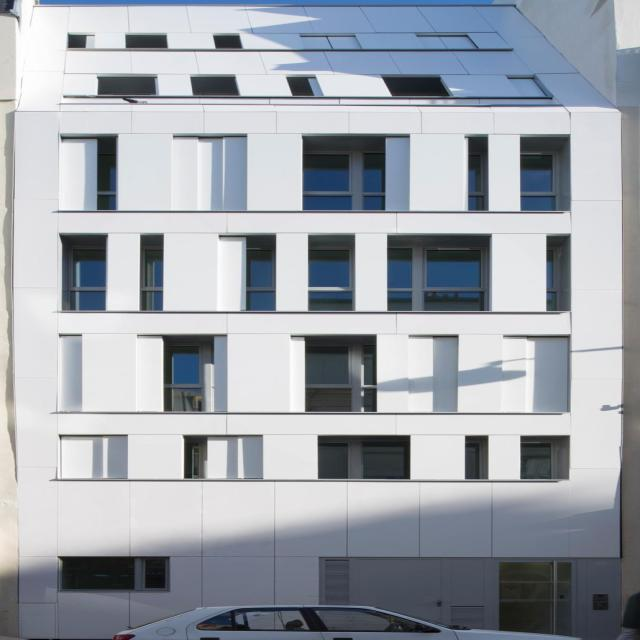door: (501, 559, 567, 633)
wall: (18, 7, 620, 640)
windows: (388, 245, 486, 310), (175, 136, 246, 212), (303, 342, 375, 411), (303, 150, 382, 210), (318, 439, 408, 479), (63, 556, 166, 588), (527, 336, 572, 409), (57, 436, 126, 477), (191, 436, 257, 478), (307, 245, 349, 308), (160, 344, 195, 410), (53, 335, 83, 412), (71, 245, 105, 309), (520, 150, 557, 208), (432, 335, 459, 412), (248, 248, 276, 311), (518, 437, 556, 476), (382, 77, 451, 96), (96, 76, 160, 96), (96, 153, 116, 209), (465, 152, 483, 208), (145, 246, 161, 309), (544, 247, 560, 310), (190, 77, 240, 96), (417, 35, 481, 49), (301, 36, 364, 49), (507, 78, 547, 97), (464, 439, 485, 475), (286, 77, 324, 96), (125, 35, 169, 48), (213, 35, 243, 49), (68, 34, 93, 48)
